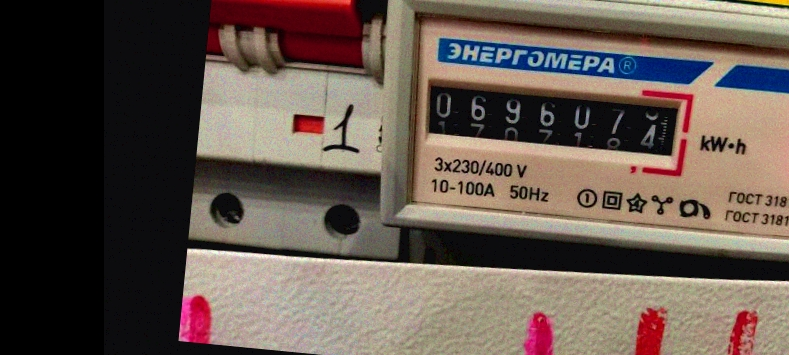0: (572, 99, 593, 131), (433, 89, 454, 118)
4: (639, 121, 658, 150)
6: (468, 91, 490, 121), (537, 98, 558, 129)
7: (607, 105, 627, 136)
9: (503, 96, 522, 125)
screen: (408, 60, 700, 176)
